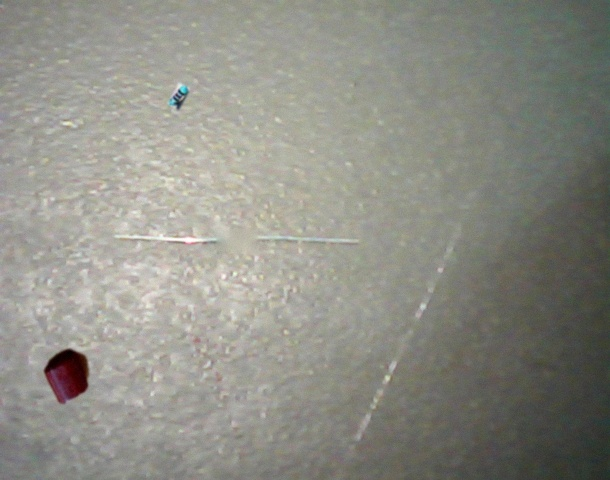capacitor: (44, 349, 90, 404)
resistor: (168, 83, 190, 110)
